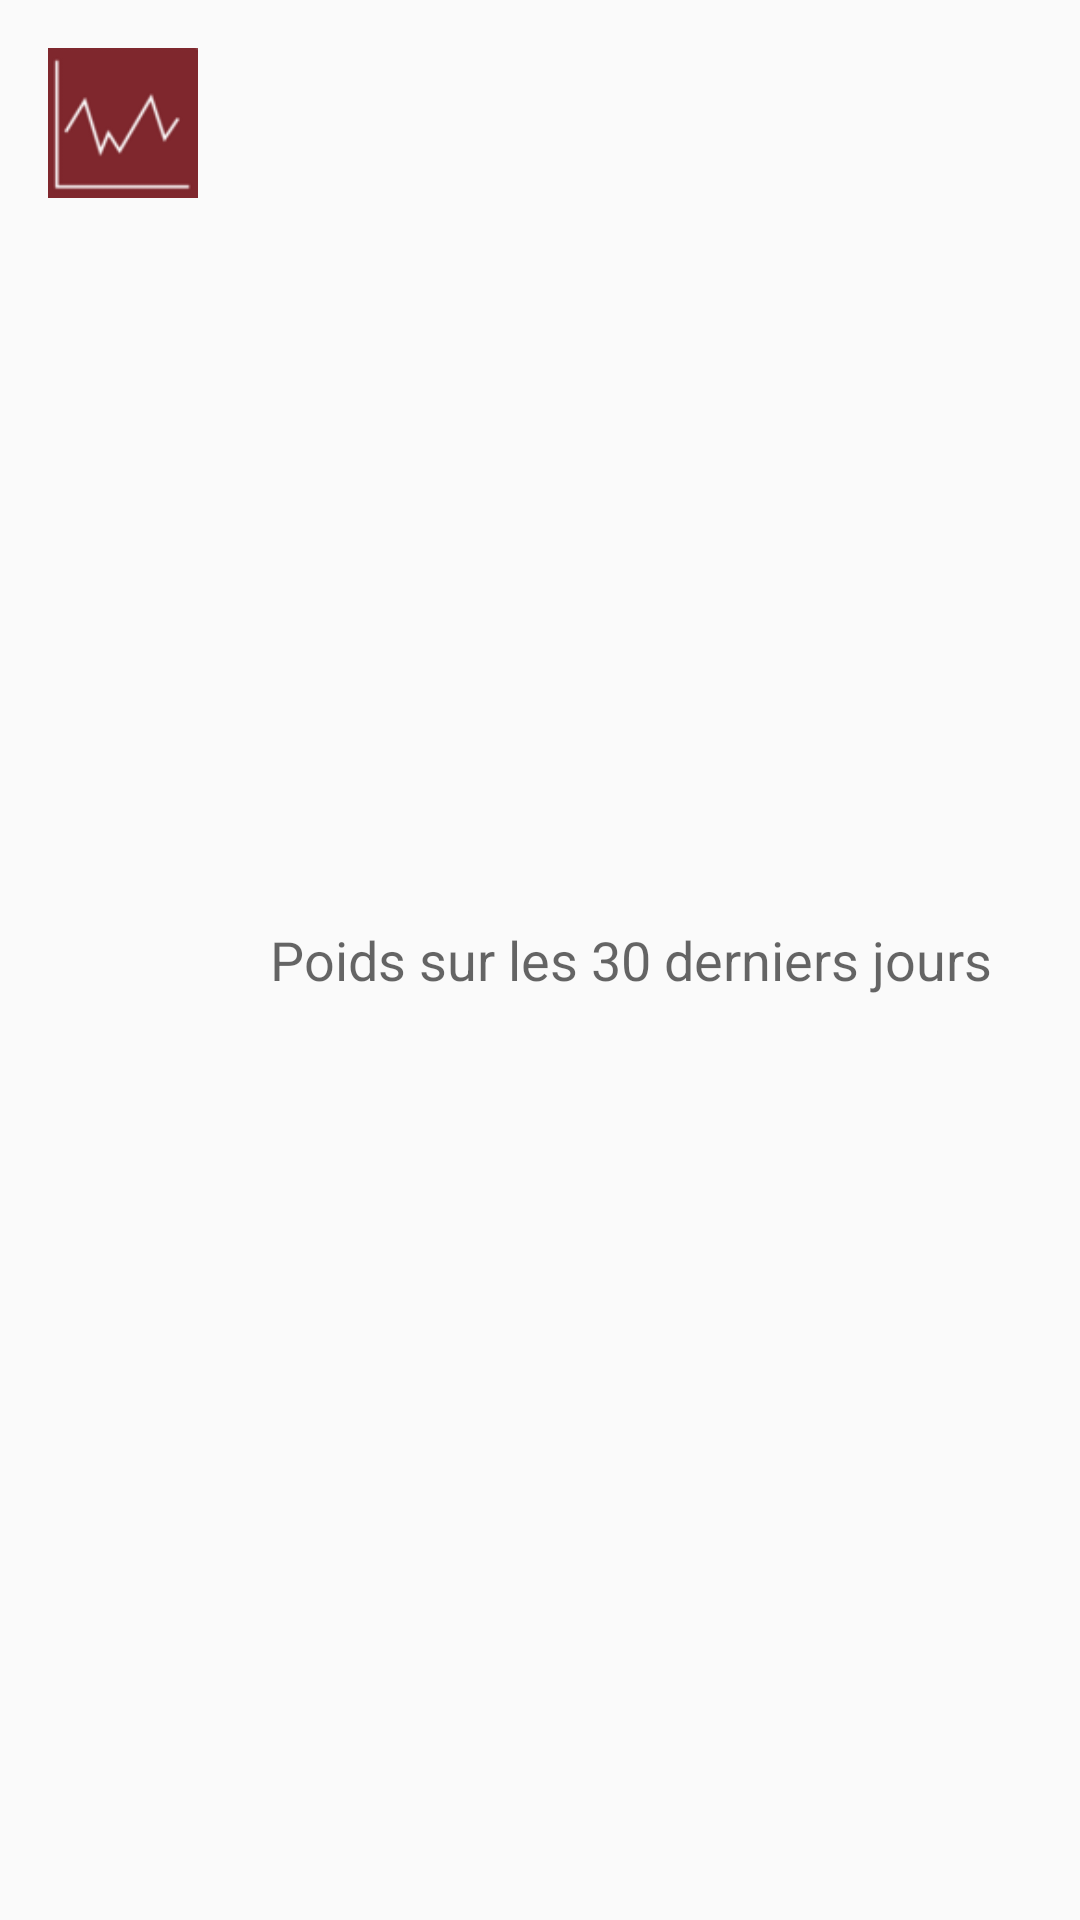

Screen size 1080x1920. Icon name, then its box in pixels as (x1, y1, x2, y2):
datawiz: (48, 48, 198, 198)
